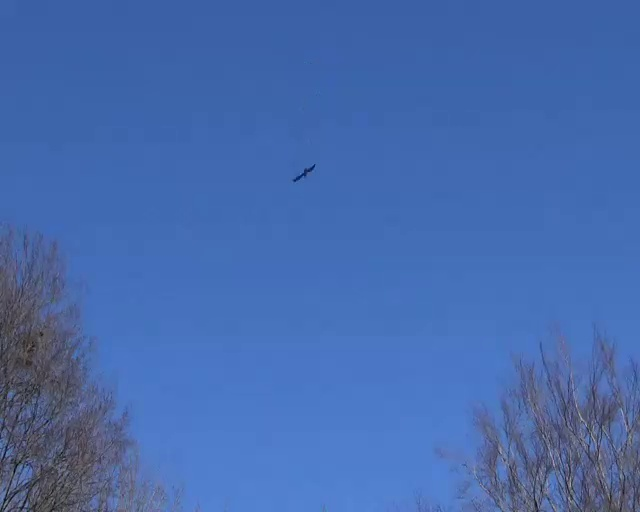BIRD: (292, 163, 317, 183)
